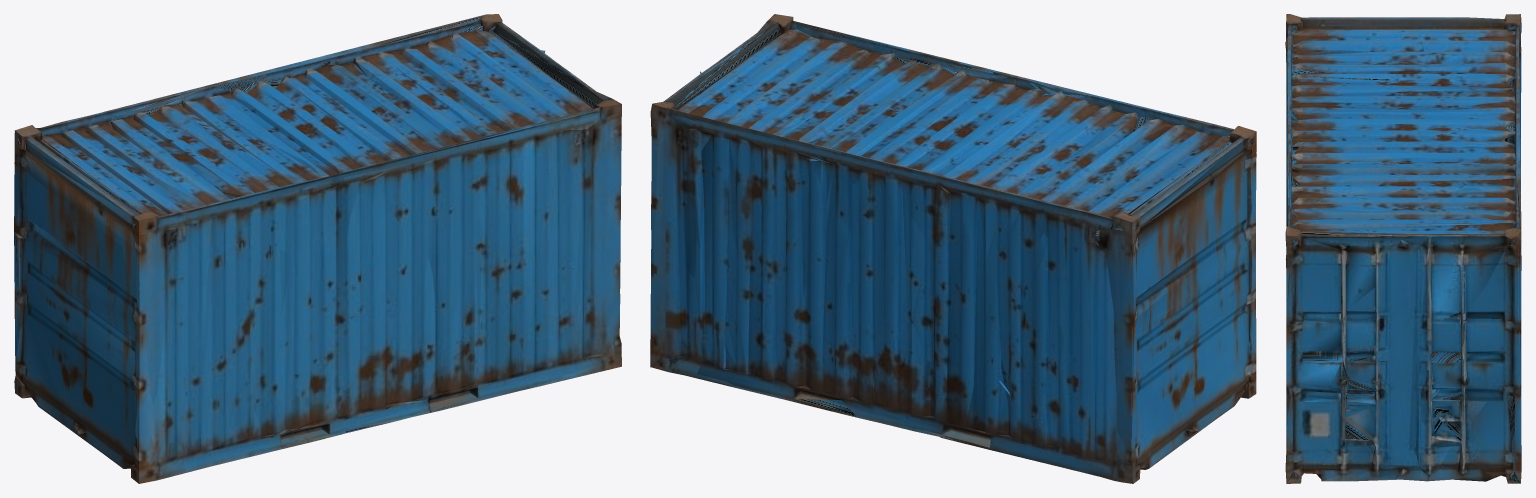
The model's file is cargo_container_rusty_blue.glb.
3 views of the same model, side by side, from view 1: azimuth 30°, elevation 25°; view 2: azimuth 150°, elevation 25°; view 3: azimuth 270°, elevation 25° (orthographic). The views are drawn at different scales.
Parts seen in each view (by area): view 1: Mesh1.0_lod, turn; view 2: Mesh1.0_lod, turn; view 3: turn, Mesh1.0_lod.
Boxes of the visible parts, x1,y1,x2,y2 form: Mesh1.0_lod: (14,14,621,483); turn: (14,14,621,483); Mesh1.0_lod: (650,20,1256,483); turn: (650,14,1256,483); turn: (1285,14,1521,483); Mesh1.0_lod: (1285,14,1521,483).
Size of the model in its own units: 4.99 by 2.6 by 2.23.
Materials: 1 (1 with a texture image).
